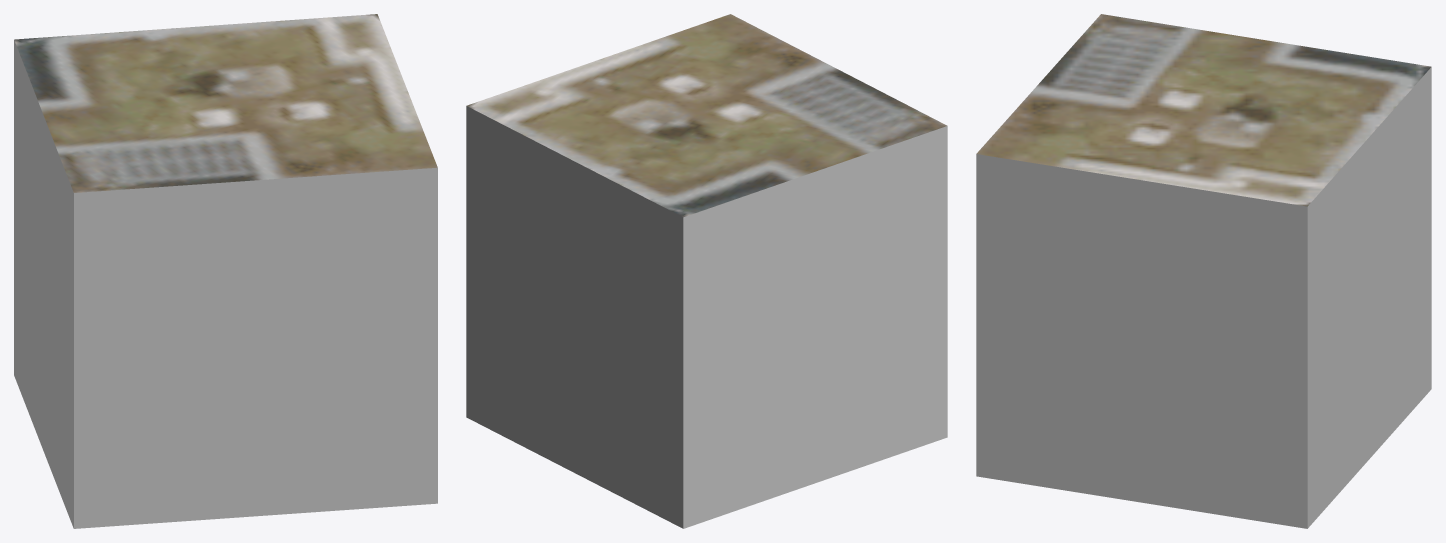
Rendered from DEBW_0010007Txg2.gltf.
3 renders of one model, left to right at view 1: azimuth 30°, elevation 25°; view 2: azimuth 150°, elevation 25°; view 3: azimuth 270°, elevation 25°, orthographic. The views are drawn at different scales.
Parts seen in each view (by area): view 1: Z_UP; view 2: Z_UP; view 3: Z_UP.
Part boxes in pixels (x1,y1,x2,y2): Z_UP: (14,14,437,528); Z_UP: (466,14,947,528); Z_UP: (976,14,1431,528).
Bounding box in the file's own units: 19.34 × 15.09 × 19.33.
2 materials, 1 textured.
